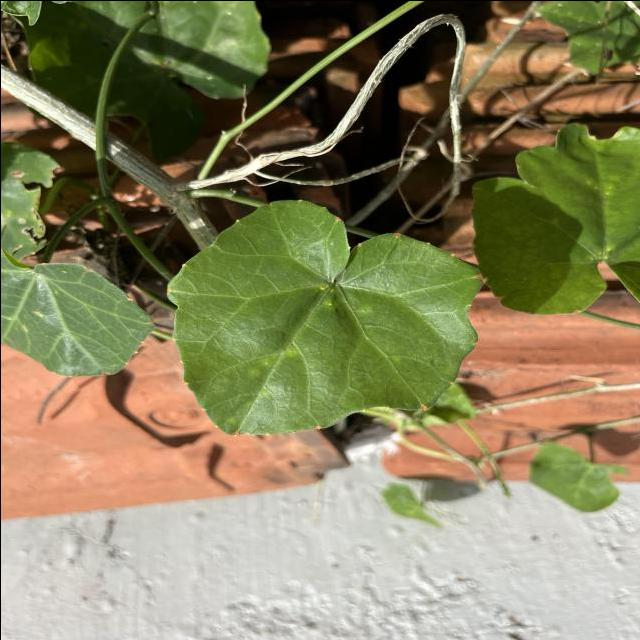Coccinia grandis: (162, 196, 484, 438)
